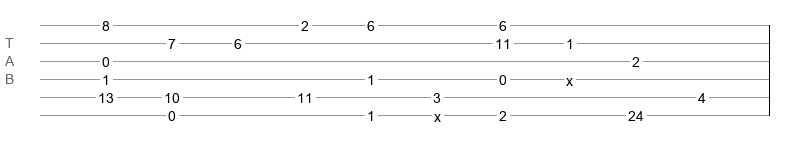0: (102, 54, 110, 64), (168, 108, 176, 118), (499, 72, 507, 82)
1: (102, 72, 110, 82), (367, 108, 375, 118), (367, 72, 375, 82), (566, 36, 574, 46)
10: (164, 90, 180, 100)
11: (297, 90, 313, 100), (495, 36, 511, 46)
13: (98, 90, 114, 100)
2: (301, 18, 309, 28), (499, 108, 507, 118), (632, 54, 640, 64)
24: (628, 108, 644, 118)
3: (433, 90, 441, 100)
4: (698, 90, 706, 100)
6: (234, 36, 242, 46), (367, 18, 375, 28), (499, 18, 507, 28)
7: (168, 36, 176, 46)
8: (102, 18, 110, 28)
x: (434, 109, 441, 117), (566, 73, 573, 81)
